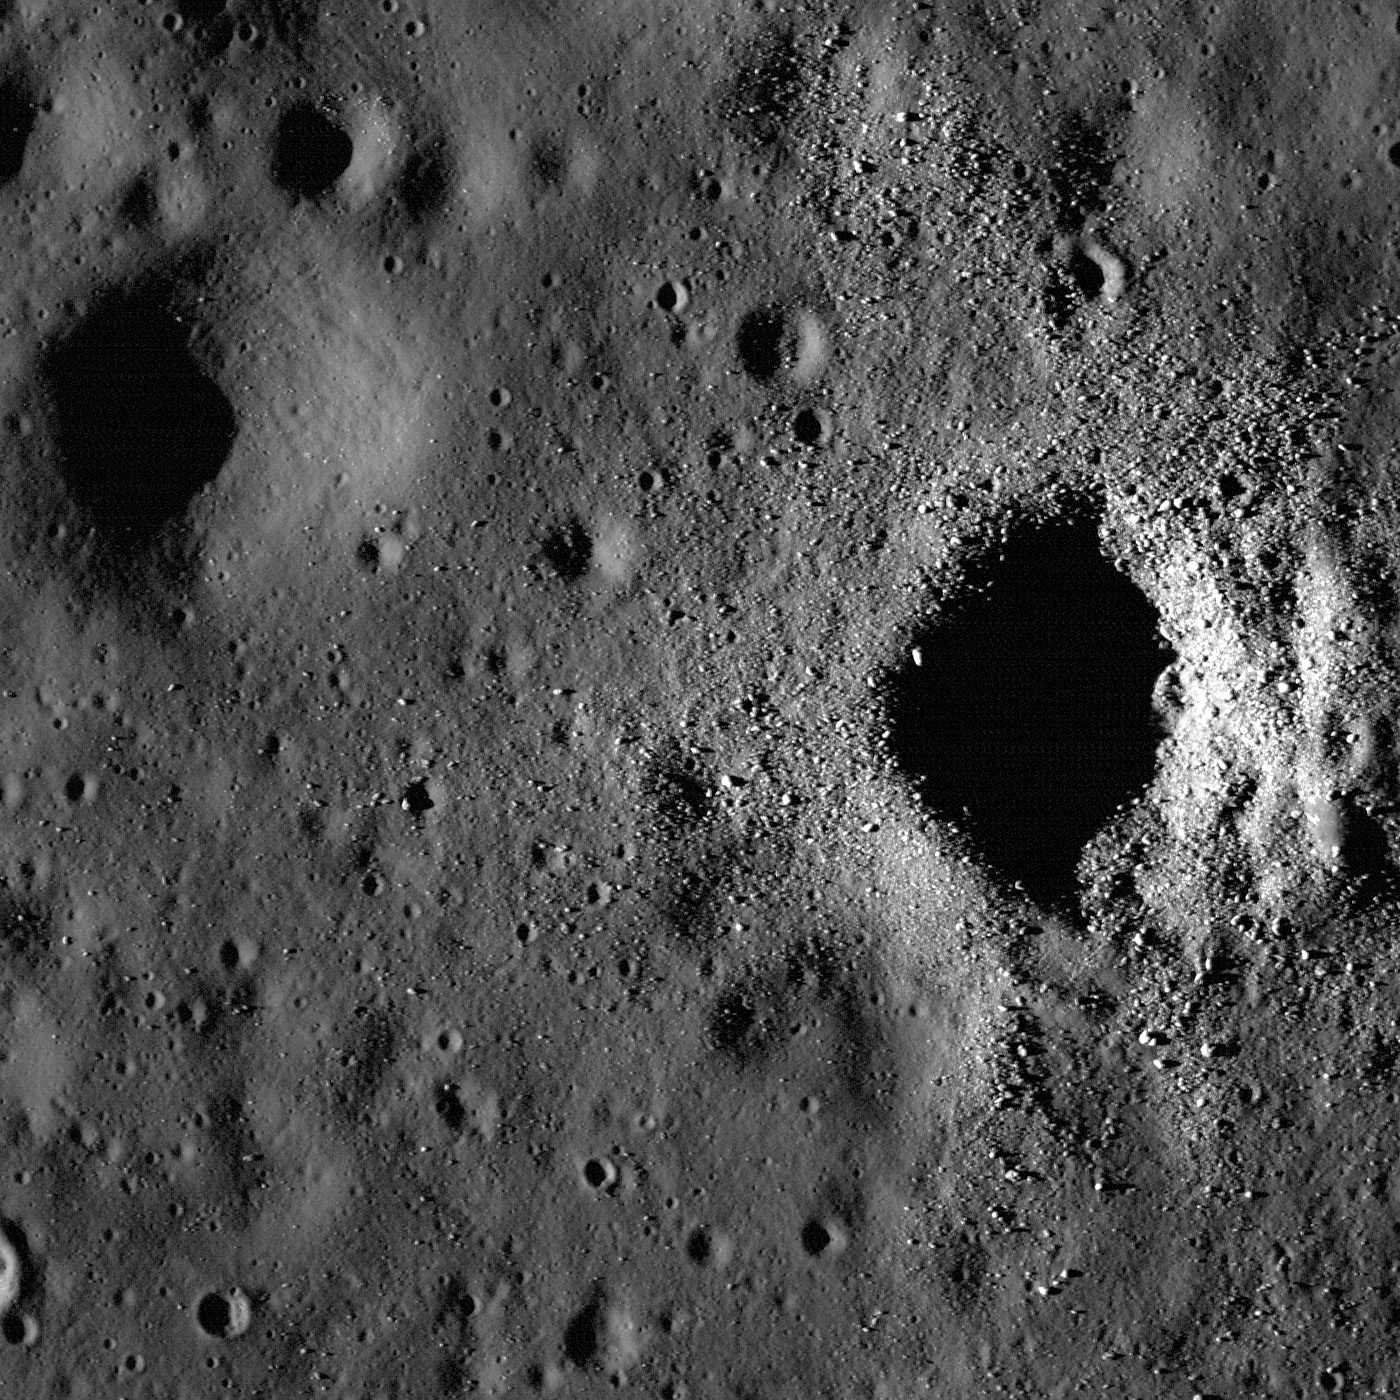crater: (751, 429, 1336, 1135), (1, 217, 462, 669), (126, 1223, 368, 1390), (741, 1142, 921, 1346), (235, 77, 403, 237)
